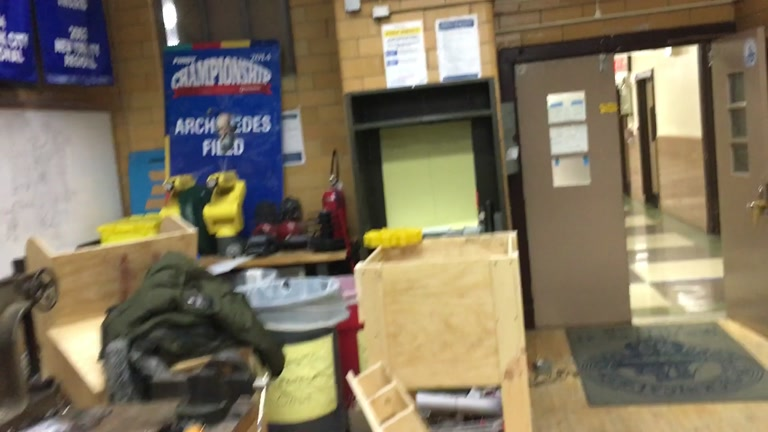gear: (363, 225, 423, 249)
